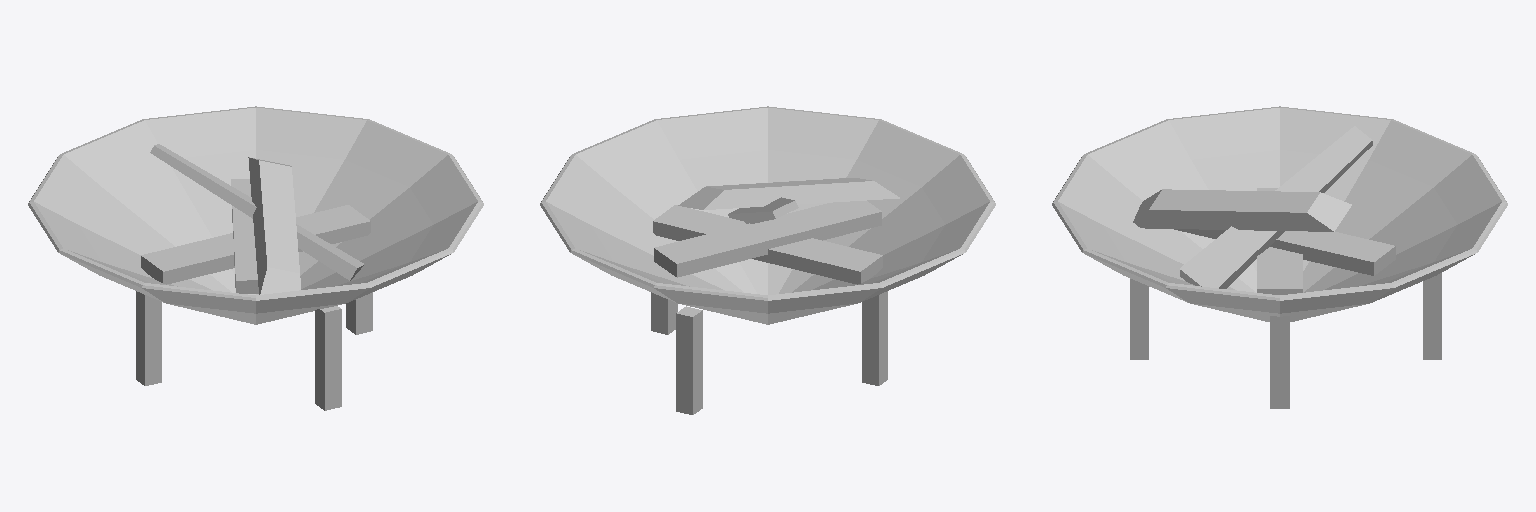
File: FirePit_mesh.obj
3 views of the same model, side by side, from view 1: azimuth 30°, elevation 25°; view 2: azimuth 150°, elevation 25°; view 3: azimuth 270°, elevation 25° (orthographic).
Parts seen in each view (by area): view 1: pCube9; view 2: pCube9; view 3: pCube9.
Boxes of the visible parts, x1,y1,x2,y2 form: pCube9: [28, 106, 483, 410]; pCube9: [540, 106, 995, 414]; pCube9: [1052, 106, 1507, 408].
Size of the model in its own units: 1.05 by 0.5023 by 1.05.